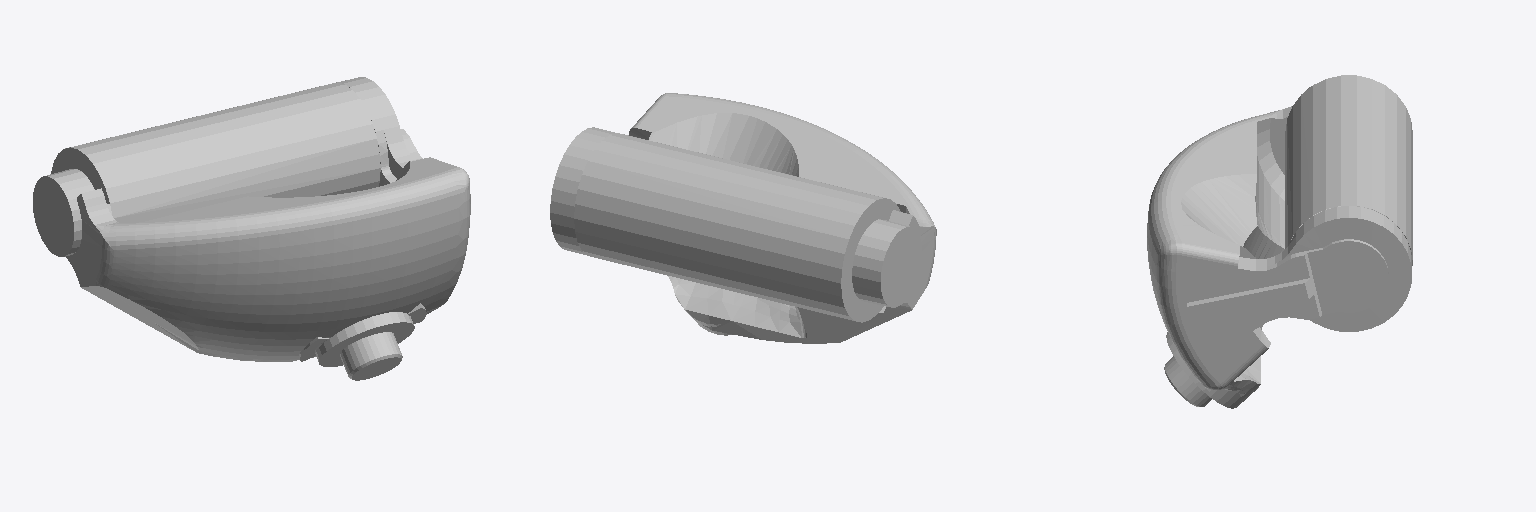
The model's file is LHipYawPitch.obj.
3 renders of one model, left to right at view 1: azimuth 30°, elevation 25°; view 2: azimuth 150°, elevation 25°; view 3: azimuth 270°, elevation 25°, orthographic.
Visible parts, largest first — view 1: root; view 2: root; view 3: root.
Boxes of the visible parts, <box> form: root: <box>33,77,470,380</box>; root: <box>550,93,936,343</box>; root: <box>1147,75,1412,408</box>.
Size of the model in its own units: 82.8 by 52.98 by 56.74.